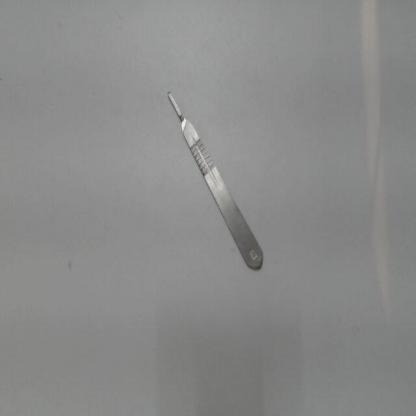No.3 BP Handle: (151, 75, 276, 284)
